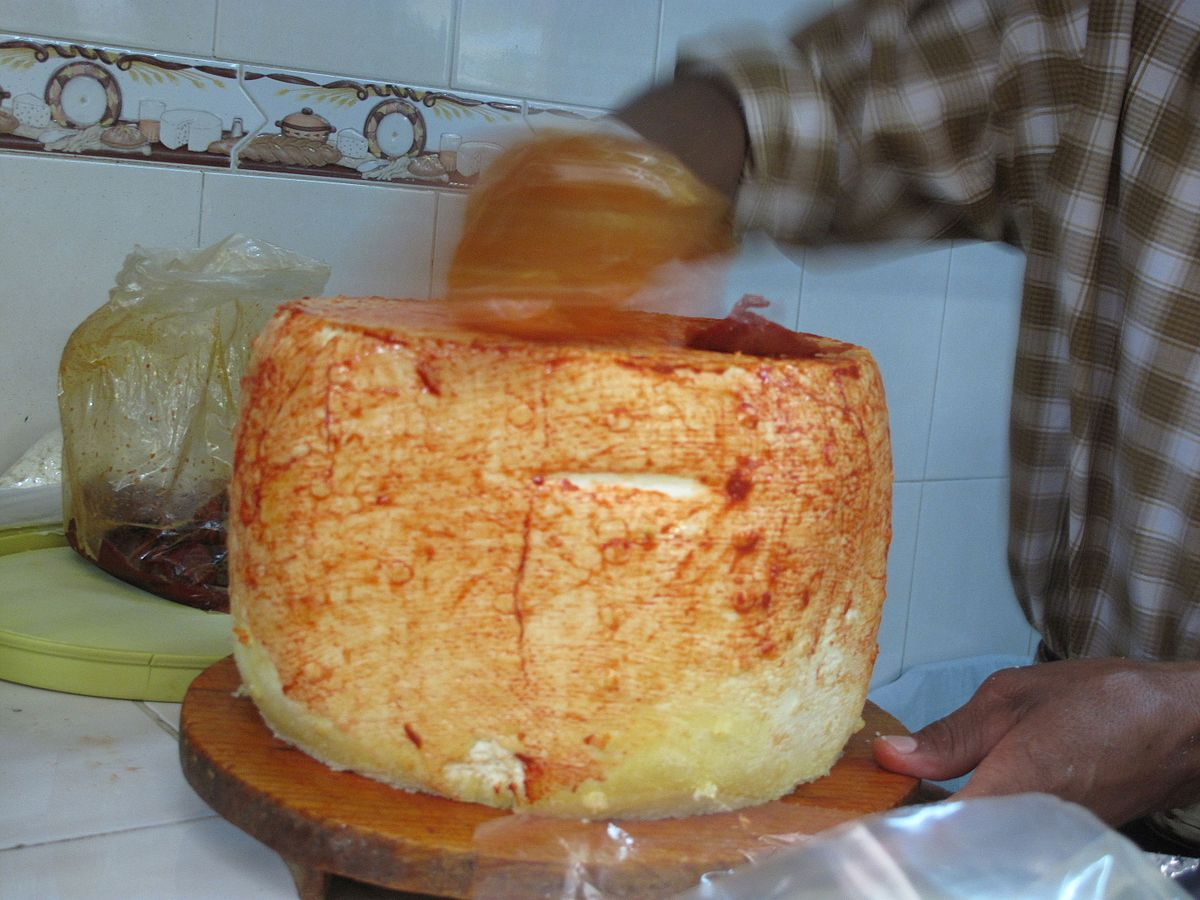cheese: (217, 298, 924, 810)
